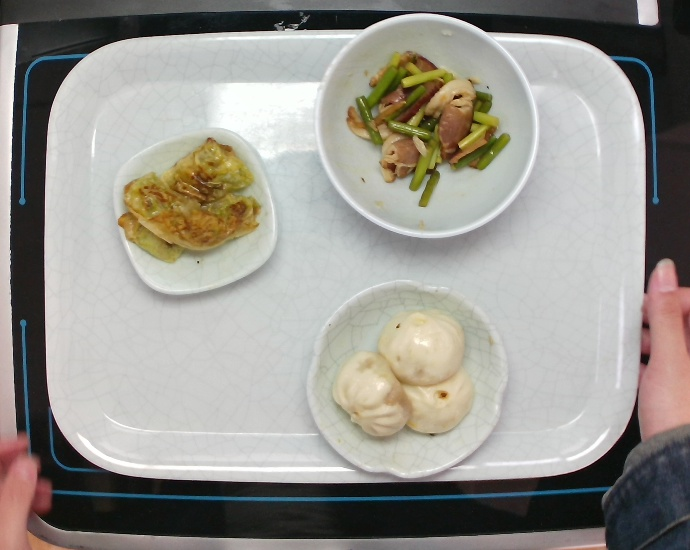JYsf-Ao_Yuan_Wan: (302, 275, 511, 481)
JYsf-Fan_Wan: (312, 11, 543, 242)
JYsf-Si_Fang_Die: (111, 125, 281, 297)
